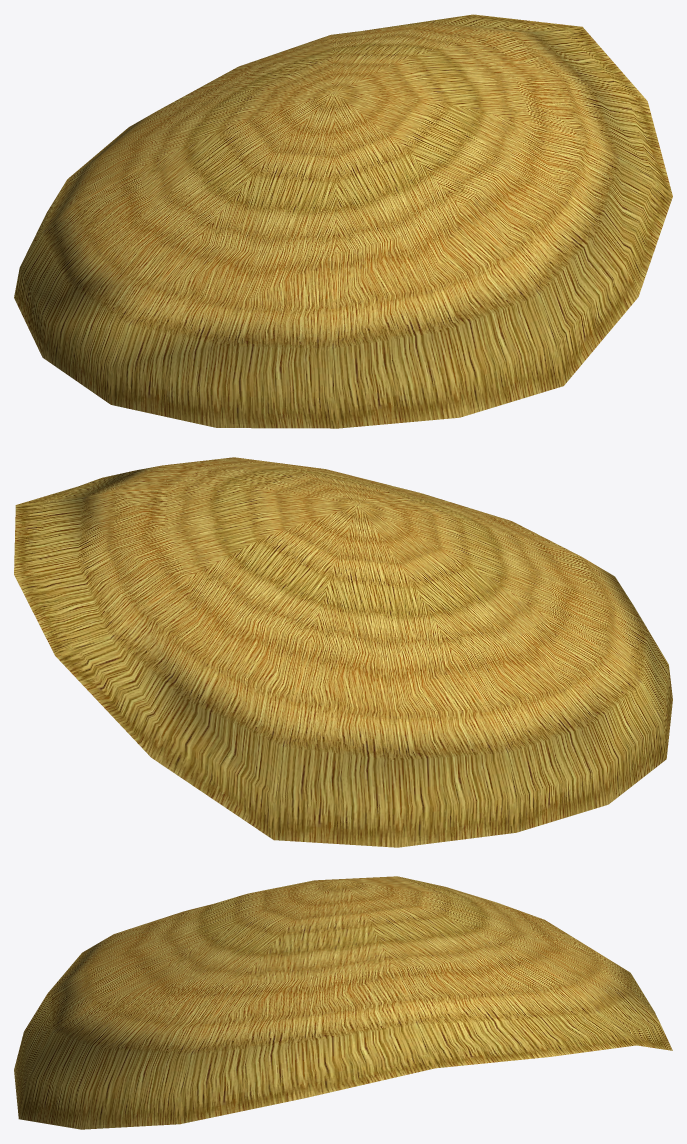
File: HTOWN01_HANNA-ROOF.fbx
3 views of the same model, one above another, from view 1: azimuth 30°, elevation 25°; view 2: azimuth 150°, elevation 25°; view 3: azimuth 270°, elevation 25° (orthographic). The views are drawn at different scales.
Parts seen in each view (by area): view 1: HTOWN01_HANNA-ROOF; view 2: HTOWN01_HANNA-ROOF; view 3: HTOWN01_HANNA-ROOF.
Boxes of the visible parts, <box> form: HTOWN01_HANNA-ROOF: <box>14,14,672,428</box>; HTOWN01_HANNA-ROOF: <box>14,457,672,847</box>; HTOWN01_HANNA-ROOF: <box>14,876,672,1129</box>.
Size of the model in its own units: 76878 by 28820 by 75422.
Materials: 2 (2 with a texture image).
